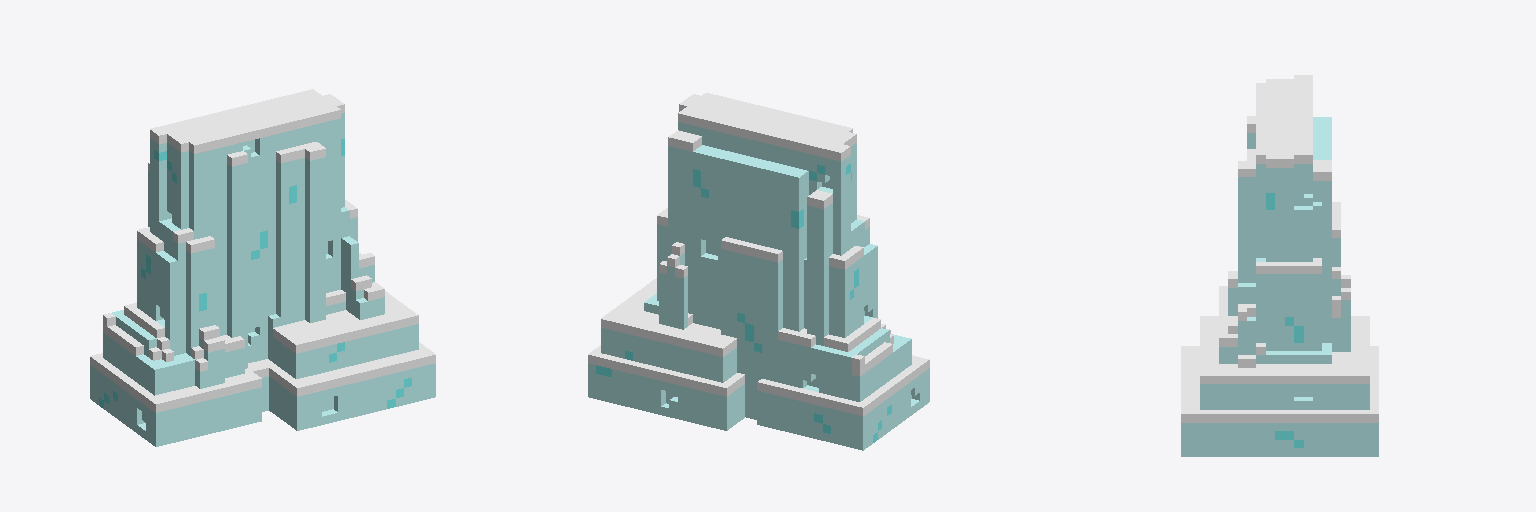
The picture shows the model from 3 angles: view 1: azimuth 30°, elevation 25°; view 2: azimuth 150°, elevation 25°; view 3: azimuth 270°, elevation 25°; orthographic projection.
Visible parts, largest first — view 1: object 1; view 2: object 1; view 3: object 1.
Part boxes in pixels (x1,y1,x2,y2): object 1: (90, 89, 435, 446); object 1: (588, 93, 929, 450); object 1: (1181, 75, 1378, 456).
Size of the model in its own units: 3.2 by 3.2 by 2.1.
Materials: 1 (1 with a texture image).